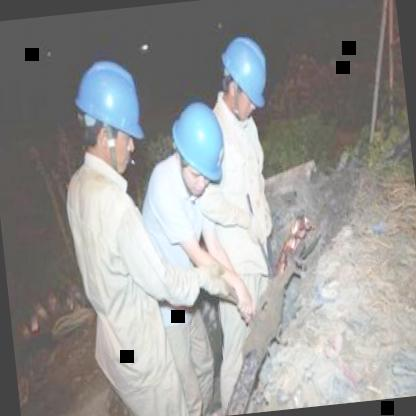helmet: (69, 51, 150, 177), (160, 97, 227, 200), (216, 29, 280, 124)
